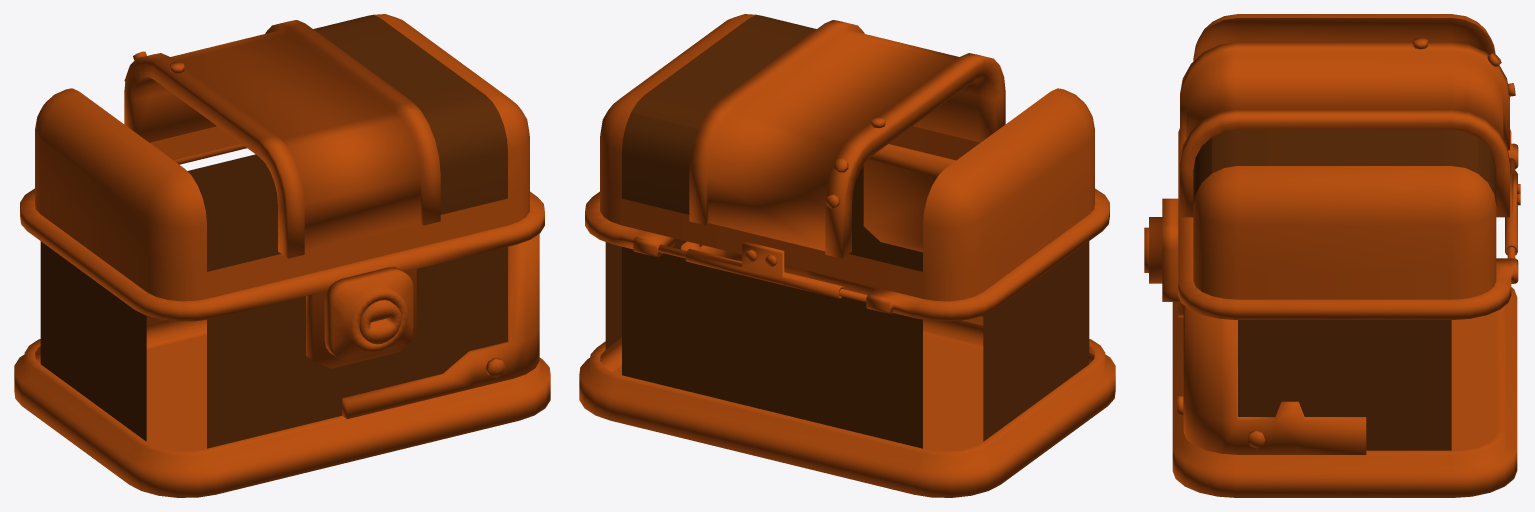
Rendered from monster_in_treasure.glb.
3 views of the same model, side by side, from view 1: azimuth 30°, elevation 25°; view 2: azimuth 150°, elevation 25°; view 3: azimuth 270°, elevation 25° (orthographic).
Visible parts, largest first — view 1: Cube, Cube.004, Cube.007, Cube.003, Cube.002, Cube.001, Cube.006, Cube.008, Cube.010, Cube.011; view 2: Cube, Cube.004, Cube.007, Cube.003, Cube.006, Cube.001, Cube.002, Cylinder.001, Cube.008; view 3: Cube.003, Cube.004, Cube.007, Cube, Cube.008, Cube.001, Cube.006, Cube.002, Cube.010, Cylinder.001.
Boxes of the visible parts, bbox=[...] form: Cube: bbox=[40, 154, 507, 448]; Cube.004: bbox=[124, 20, 440, 258]; Cube.007: bbox=[14, 316, 550, 497]; Cube.003: bbox=[35, 14, 529, 274]; Cube.002: bbox=[35, 126, 529, 301]; Cube.001: bbox=[313, 15, 507, 214]; Cube.006: bbox=[20, 188, 544, 368]; Cube.008: bbox=[342, 234, 539, 419]; Cube.010: bbox=[324, 267, 413, 360]; Cube.011: bbox=[359, 300, 401, 344]; Cube: bbox=[605, 165, 1089, 448]; Cube.004: bbox=[689, 20, 1005, 258]; Cube.007: bbox=[579, 287, 1115, 497]; Cube.003: bbox=[600, 14, 1094, 274]; Cube.006: bbox=[585, 144, 1109, 321]; Cube.001: bbox=[622, 15, 816, 214]; Cube.002: bbox=[600, 126, 1094, 301]; Cylinder.001: bbox=[685, 241, 844, 298]; Cube.008: bbox=[681, 241, 876, 293]; Cube.003: bbox=[1193, 14, 1496, 272]; Cube.004: bbox=[1180, 42, 1509, 217]; Cube.007: bbox=[1172, 287, 1517, 497]; Cube: bbox=[1238, 320, 1451, 450]; Cube.008: bbox=[1183, 305, 1366, 454]; Cube.001: bbox=[1193, 129, 1496, 205]; Cube.006: bbox=[1178, 128, 1518, 319]; Cube.002: bbox=[1193, 254, 1496, 299]; Cube.010: bbox=[1149, 198, 1178, 301]; Cylinder.001: bbox=[1505, 169, 1517, 255].
Bounding box in the file's own units: 3.18 × 2.35 × 2.49.
